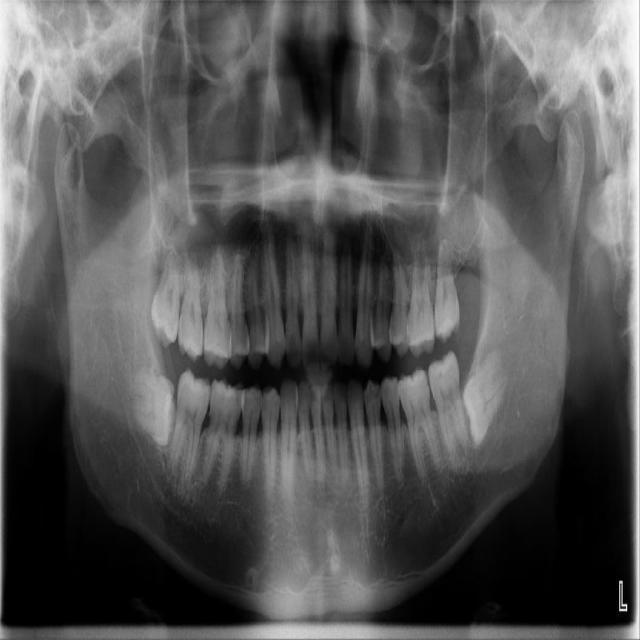3M ESPE Implant: (148, 228, 187, 352)
73: (594, 576, 599, 584)
BioHorizons Implant: (434, 237, 460, 345)
Biomet 3i Implant: (442, 346, 520, 452)
Blue Sky Bio Implant: (424, 349, 473, 472)
Caries: (174, 244, 205, 364)
Implant: (164, 365, 215, 491)
Keystone Dental Implant: (126, 368, 182, 450)
